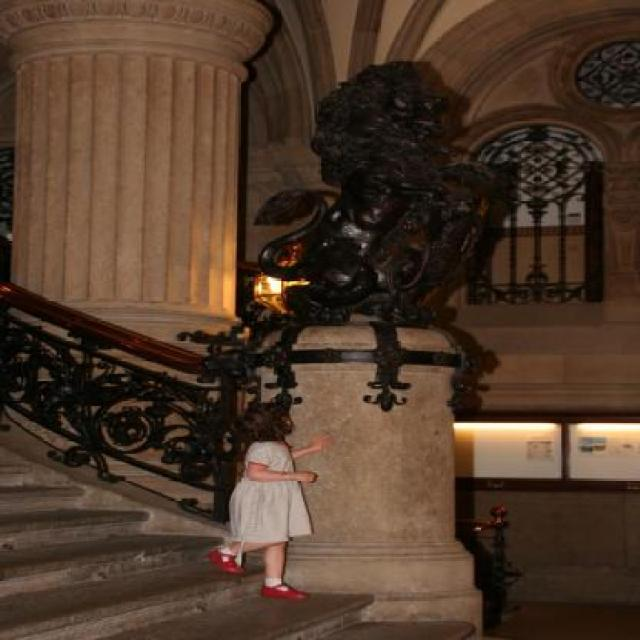stair: (0, 443, 480, 640)
